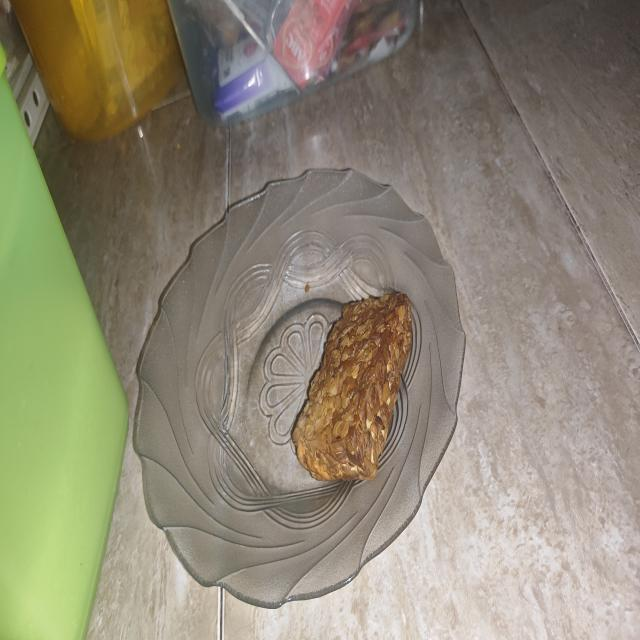tempe_goreng: (293, 294, 412, 481)
